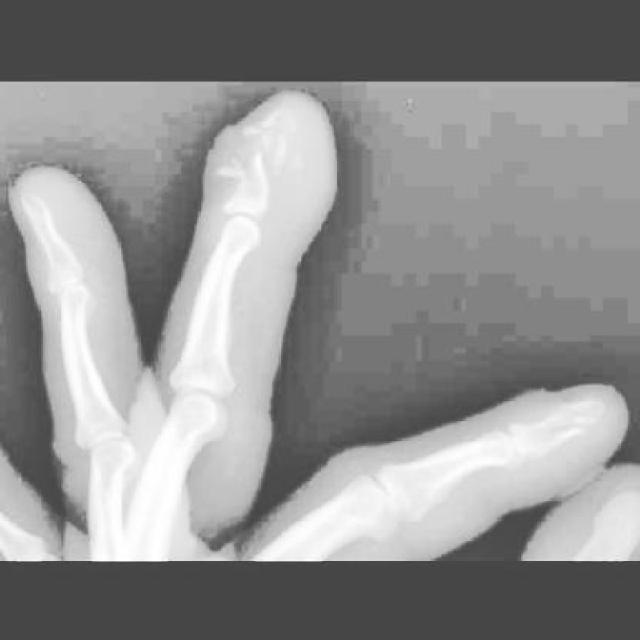Fracture: (208, 95, 311, 194), (545, 385, 618, 453)
